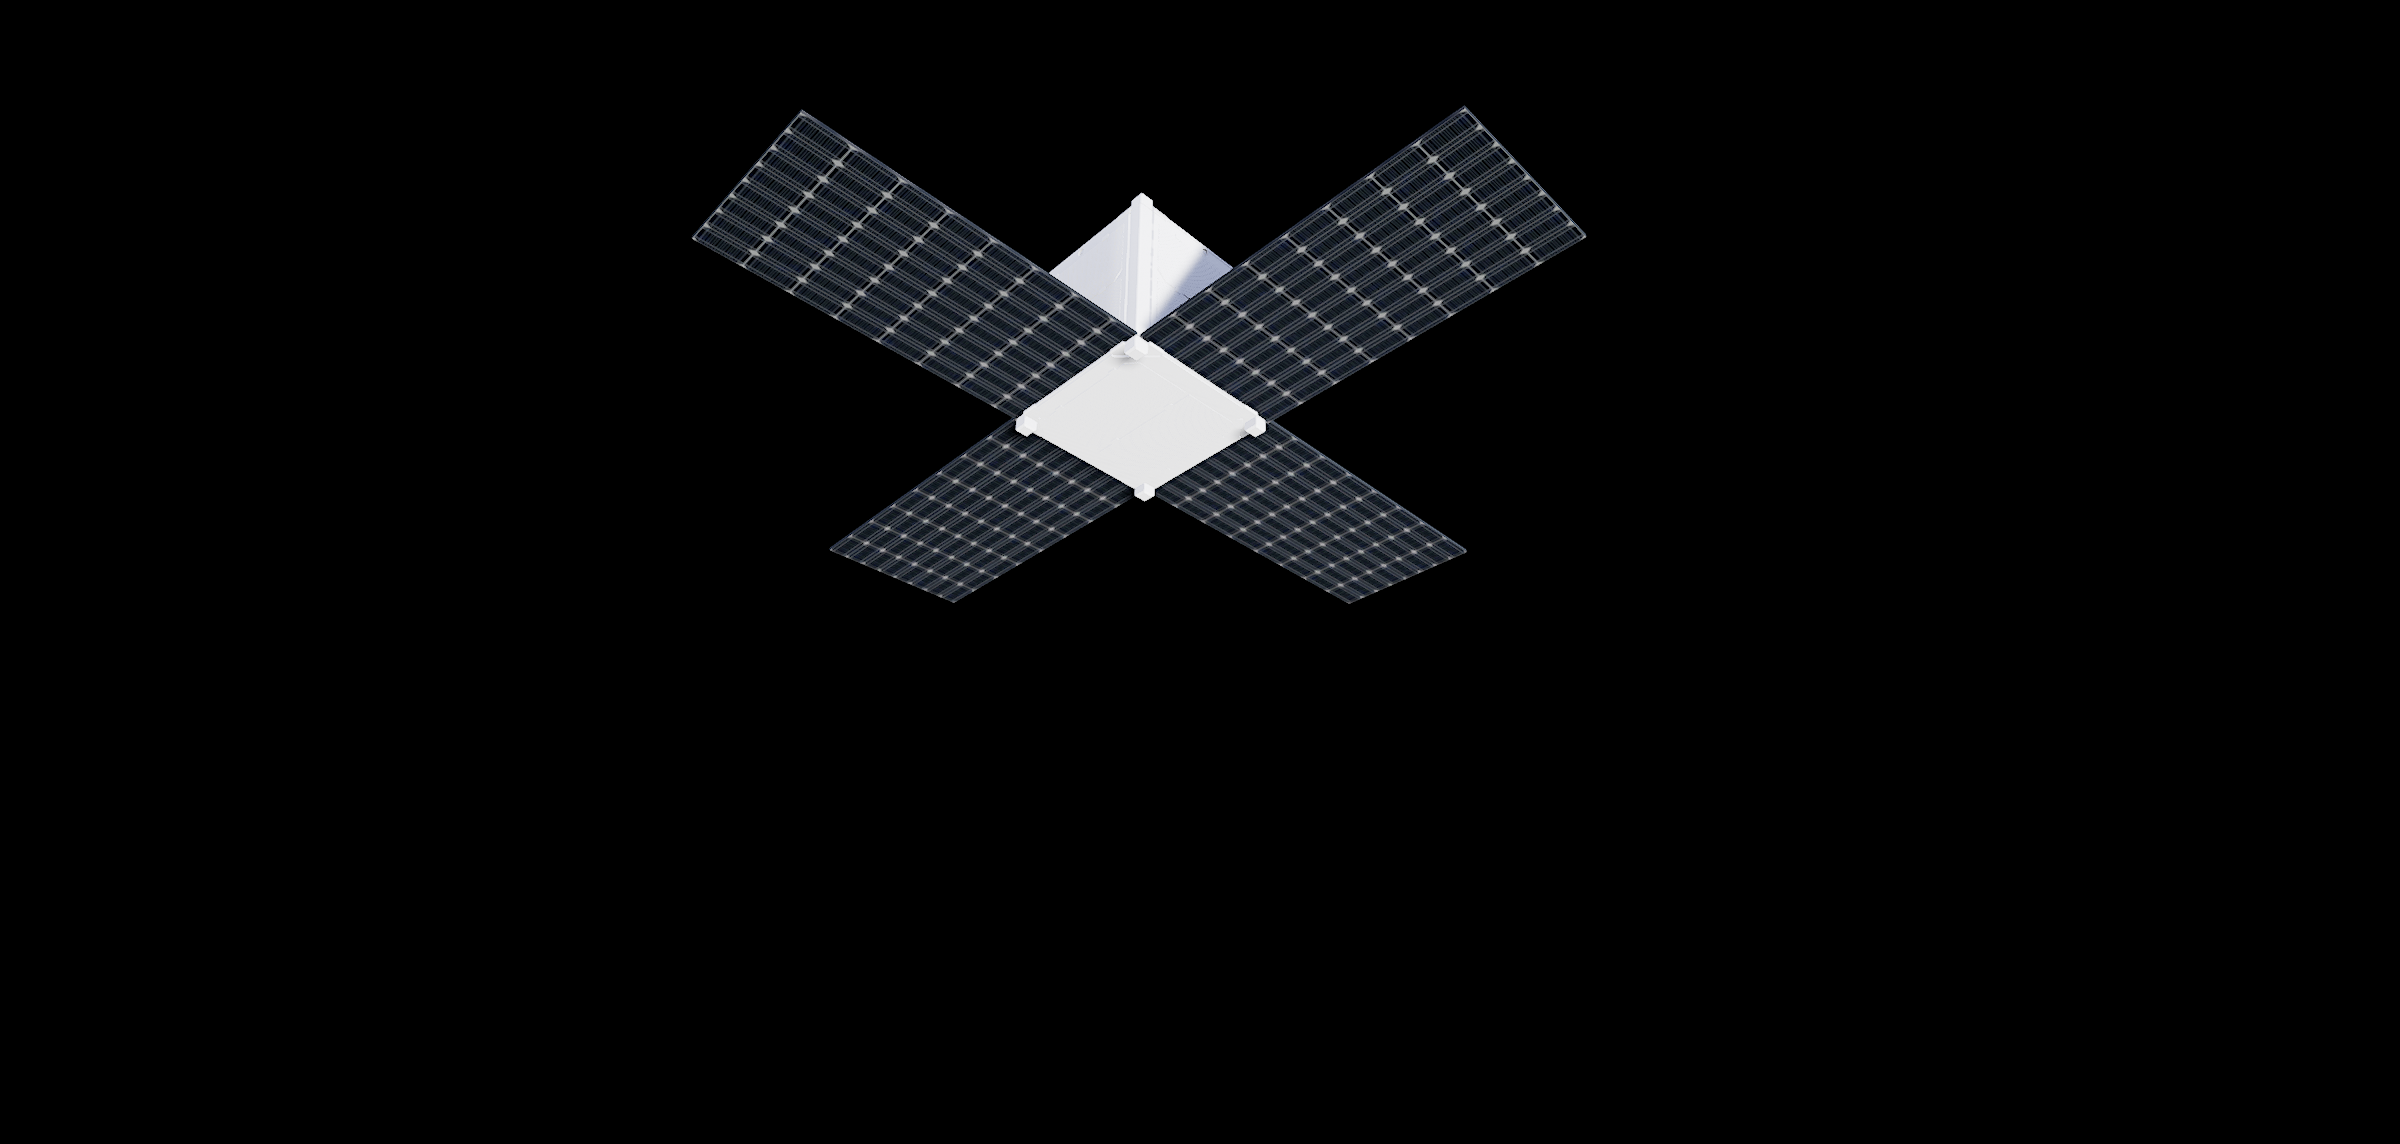satellite: (687, 77, 1612, 645)
